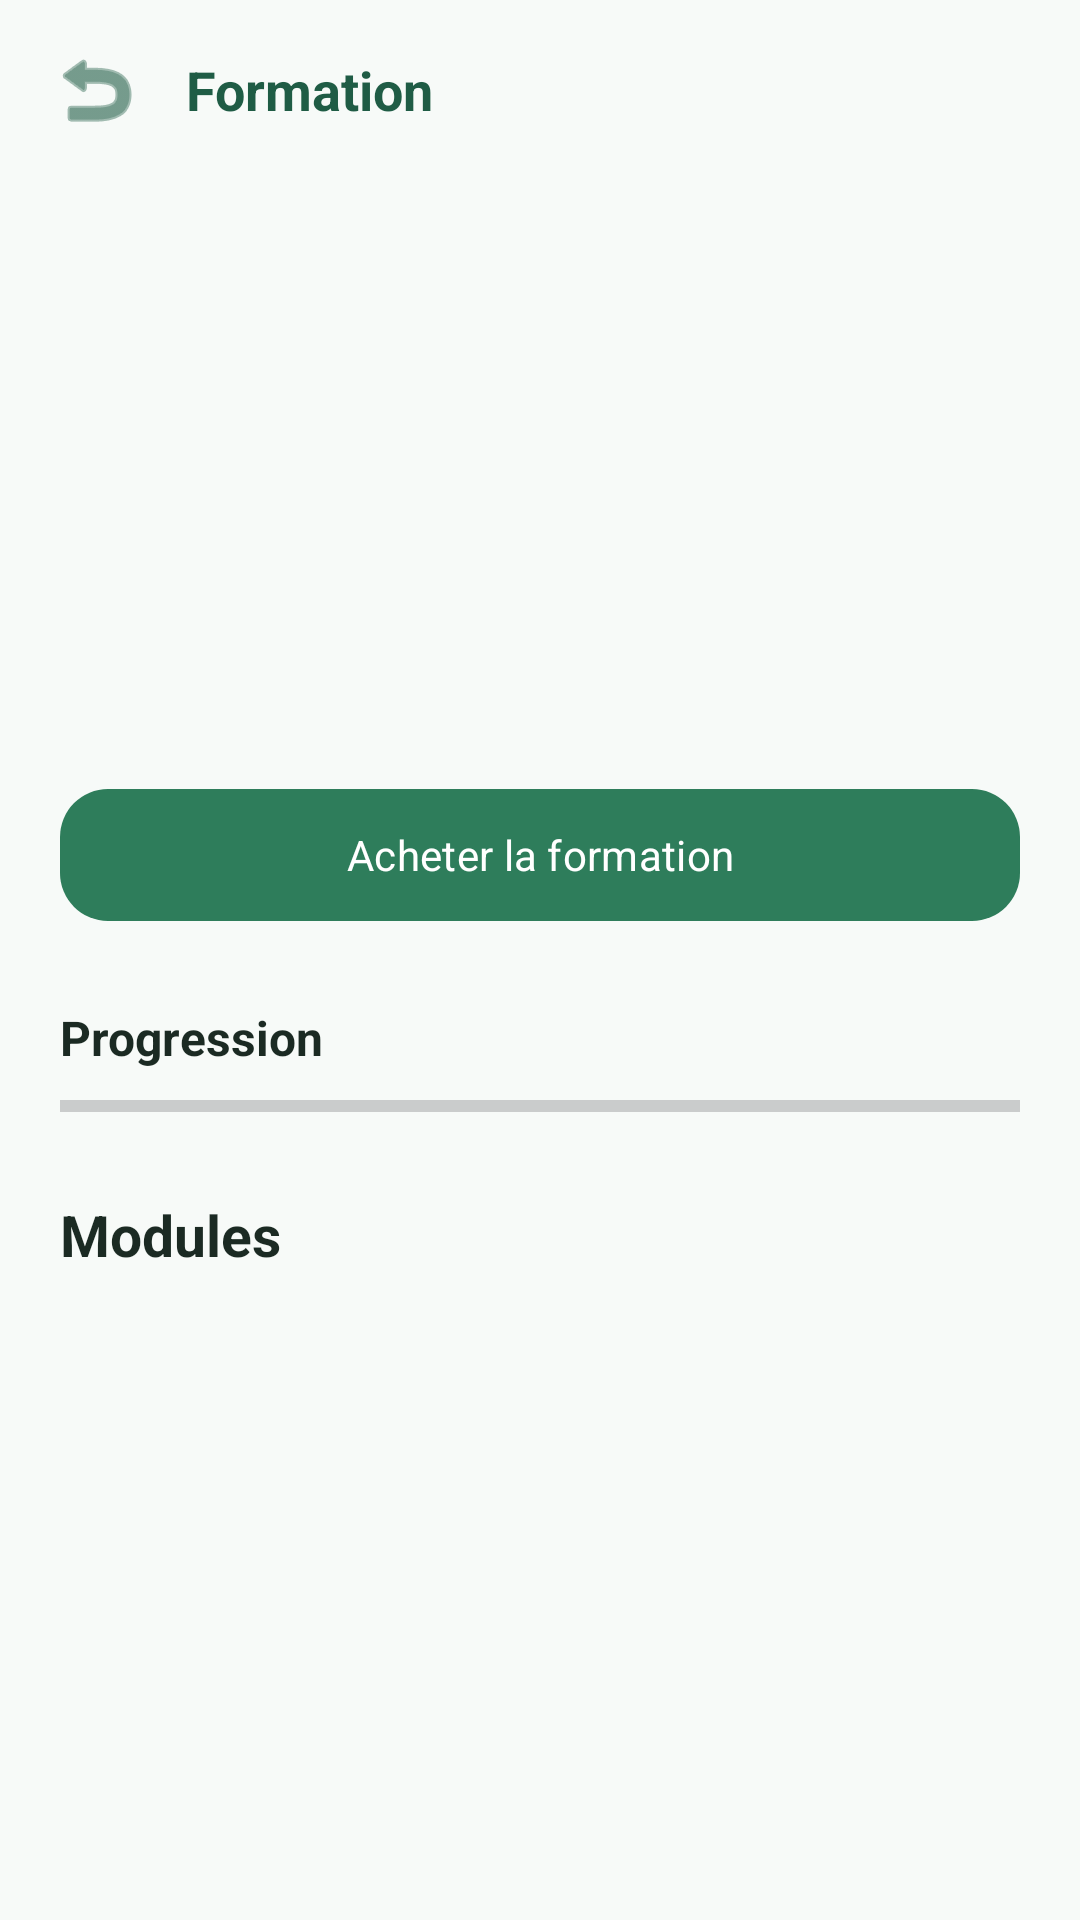

Icon click points for this 1080×1920 phone screenshot, format point (x, y):
Retour: point (97, 90)
